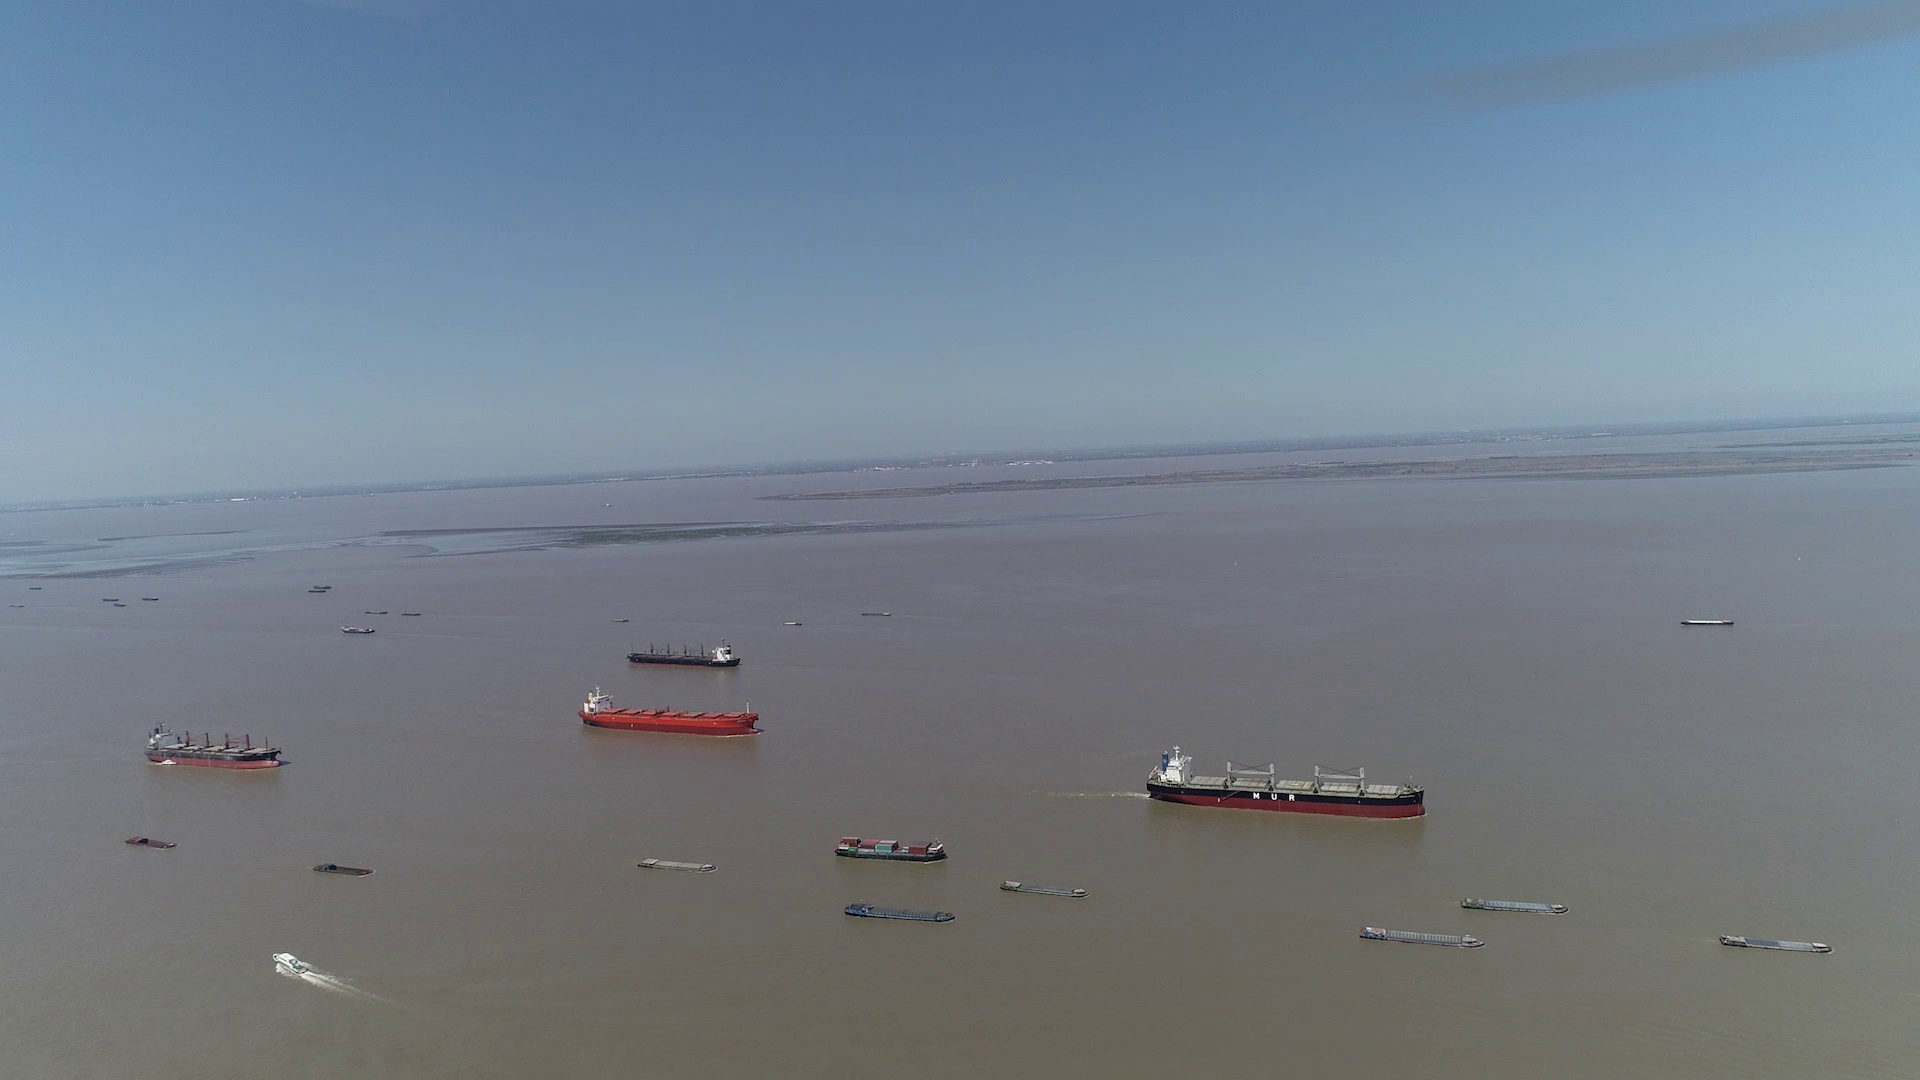ship: (1145, 744, 1423, 818), (578, 687, 756, 737), (141, 723, 280, 771), (833, 833, 945, 862), (1358, 924, 1482, 948), (628, 641, 738, 667), (1720, 934, 1832, 953), (1458, 895, 1568, 915), (843, 902, 953, 920), (1001, 880, 1088, 897), (636, 857, 719, 873), (270, 952, 306, 972), (124, 836, 175, 849), (315, 864, 371, 876), (1683, 618, 1731, 626), (340, 624, 376, 633)
